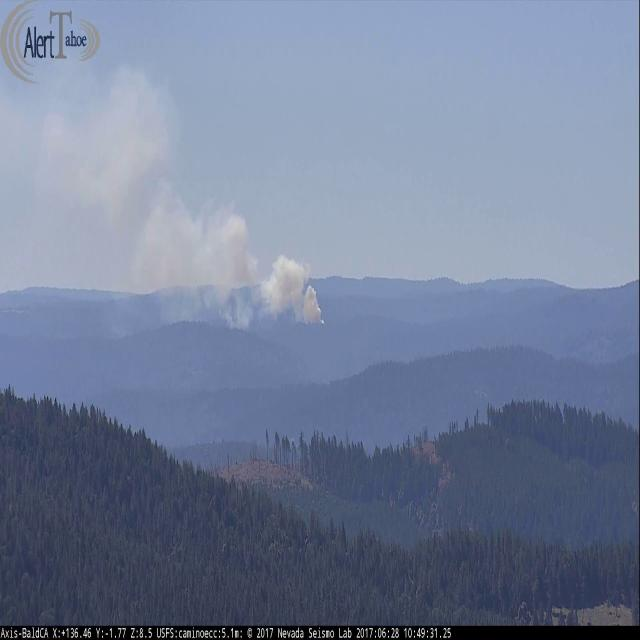smoke: (45, 59, 326, 327)
